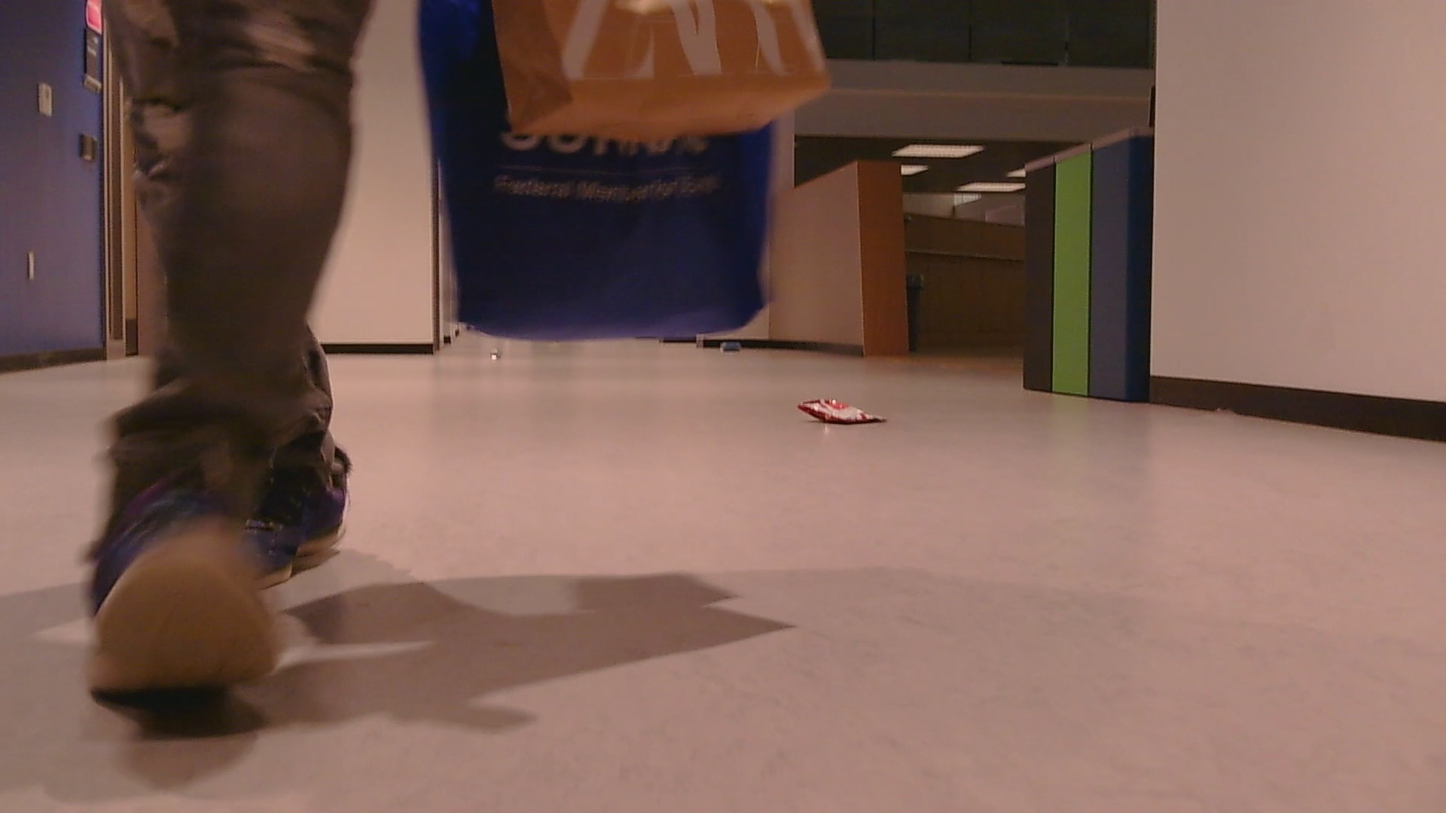carton: (806, 376, 882, 431)
